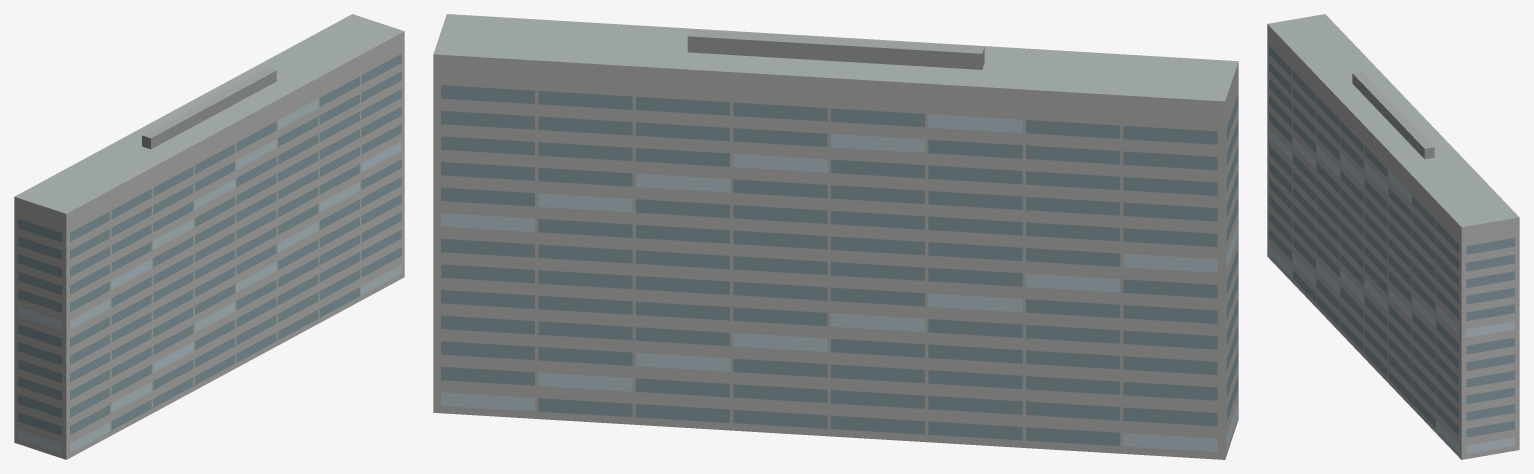
Rendered from fallback-daechi-eunma-13.glb.
3 views of the same model, side by side, from view 1: azimuth 30°, elevation 25°; view 2: azimuth 150°, elevation 25°; view 3: azimuth 270°, elevation 25° (orthographic). The views are drawn at different scales.
Visible parts, largest first — view 1: fallback-daechi-eunma-13; view 2: fallback-daechi-eunma-13; view 3: fallback-daechi-eunma-13.
Part boxes in pixels (x1=…): fallback-daechi-eunma-13: x1=14, y1=14, x2=404, y2=459; fallback-daechi-eunma-13: x1=433, y1=14, x2=1238, y2=459; fallback-daechi-eunma-13: x1=1267, y1=14, x2=1519, y2=459.
Size of the model in its own units: 83.96 by 44.62 by 41.96.
